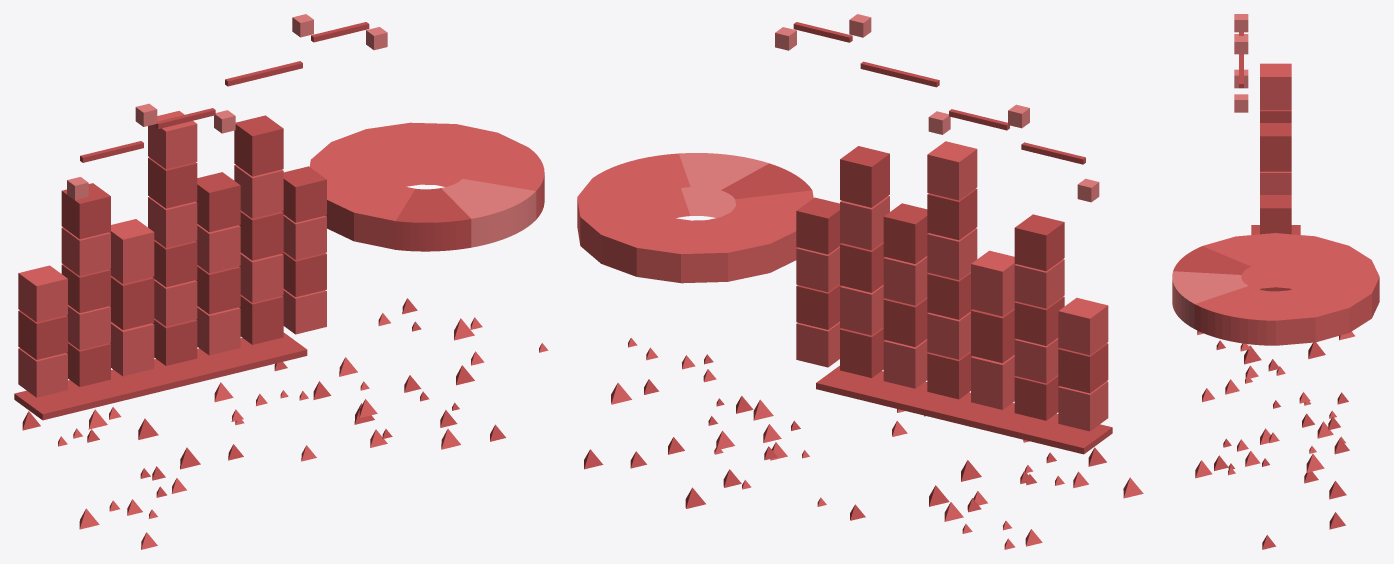
File: charts.glb
The picture shows the model from 3 angles, left to right: view 1: azimuth 30°, elevation 25°; view 2: azimuth 150°, elevation 25°; view 3: azimuth 270°, elevation 25°; orthographic projection. The views are drawn at different scales.
Visible parts, largest first — view 1: m31, m39, m38, m26, m11, m3, m21, m35, m17, m30, m8, m9 (+28 smaller); view 2: m38, m39, m31, m26, m11, m17, m3, m8, m21, m30, m10, m9 (+28 smaller); view 3: m39, m38, m32, m33, m26, m17, m34, m30, m35, m25, m36, m37 (+4 smaller).
Part boxes in pixels (box(x1,y1,x2,y2)): m31: box(14, 332, 307, 420); m39: box(331, 122, 527, 186); m38: box(309, 142, 415, 249); m26: box(234, 115, 283, 176); m11: box(110, 219, 154, 283); m3: box(18, 265, 67, 322); m21: box(196, 172, 240, 232); m35: box(441, 184, 510, 247); m17: box(148, 111, 197, 169); m30: box(282, 166, 326, 222); m8: box(61, 183, 110, 239); m9: box(110, 322, 154, 376); m38: box(681, 190, 813, 283); m39: box(577, 178, 690, 282); m31: box(816, 365, 1112, 454); m26: box(840, 146, 889, 207); m11: box(971, 250, 1015, 316); m17: box(927, 141, 977, 200); m3: box(1058, 297, 1108, 355); m8: box(1014, 214, 1064, 271); m21: box(883, 203, 928, 264); m30: box(796, 197, 841, 254); m10: box(971, 308, 1015, 363); m9: box(971, 355, 1015, 409); m39: box(1276, 260, 1379, 345); m38: box(1202, 233, 1371, 289); m32: box(1231, 290, 1275, 345); m33: box(1194, 286, 1260, 341); m26: box(1260, 123, 1291, 171); m17: box(1260, 63, 1291, 109); m34: box(1176, 281, 1248, 328); m30: box(1260, 195, 1291, 234); m35: box(1172, 271, 1242, 312); m25: box(1260, 171, 1291, 194); m36: box(1173, 257, 1244, 274); m37: box(1183, 246, 1250, 270).
Size of the model in its own units: 5.18 by 4.71 by 2.1.
